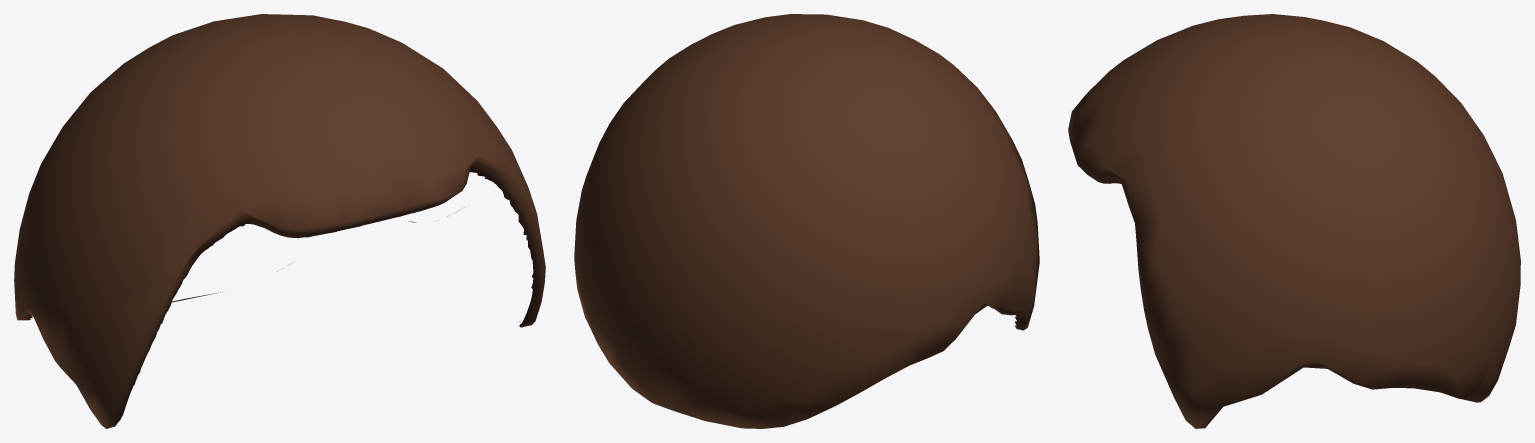
File: hair_buzz.glb
The picture shows the model from 3 angles, left to right: view 1: azimuth 30°, elevation 25°; view 2: azimuth 150°, elevation 25°; view 3: azimuth 270°, elevation 25°; orthographic projection. The views are drawn at different scales.
Visible parts, largest first — view 1: hair_buzz; view 2: hair_buzz; view 3: hair_buzz.
Part boxes in pixels (bbox=[...]): hair_buzz: bbox=[14, 14, 545, 428]; hair_buzz: bbox=[574, 14, 1039, 428]; hair_buzz: bbox=[1068, 14, 1520, 428].
Bounding box in the file's own units: 0.5542 × 0.4031 × 0.4996.
1 material, 1 textured.
